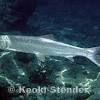Tenpounder: (0, 30, 100, 66)
